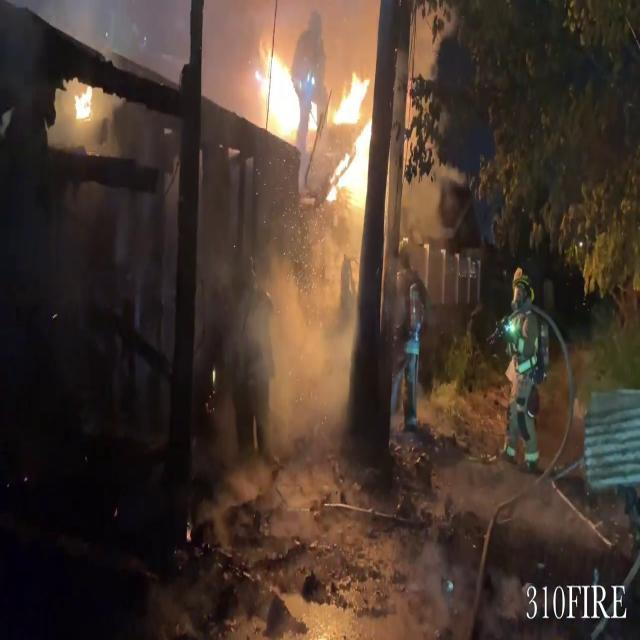Fire: (326, 62, 374, 212), (256, 34, 300, 138), (70, 80, 96, 126)
Smoke: (255, 225, 358, 467)
